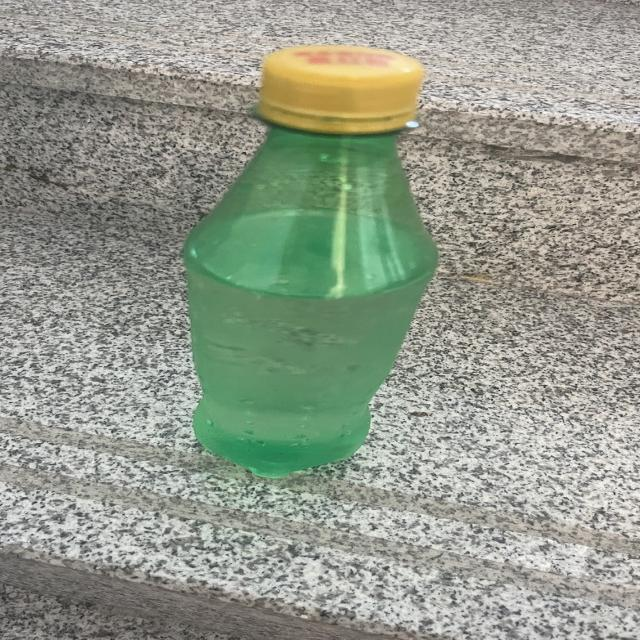high: (184, 45, 437, 477)
